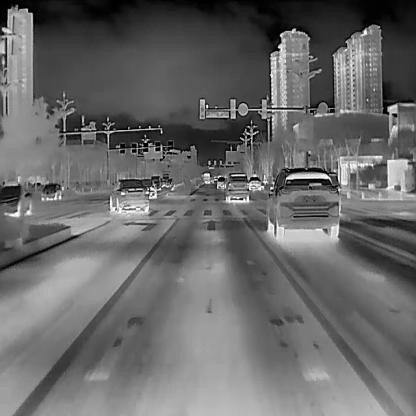bus: (201, 172, 210, 184)
car: (266, 166, 339, 236), (109, 178, 148, 211), (0, 184, 31, 216), (224, 172, 248, 200), (40, 181, 62, 200), (140, 176, 156, 199), (148, 172, 161, 191), (248, 176, 260, 190), (216, 176, 225, 188)
